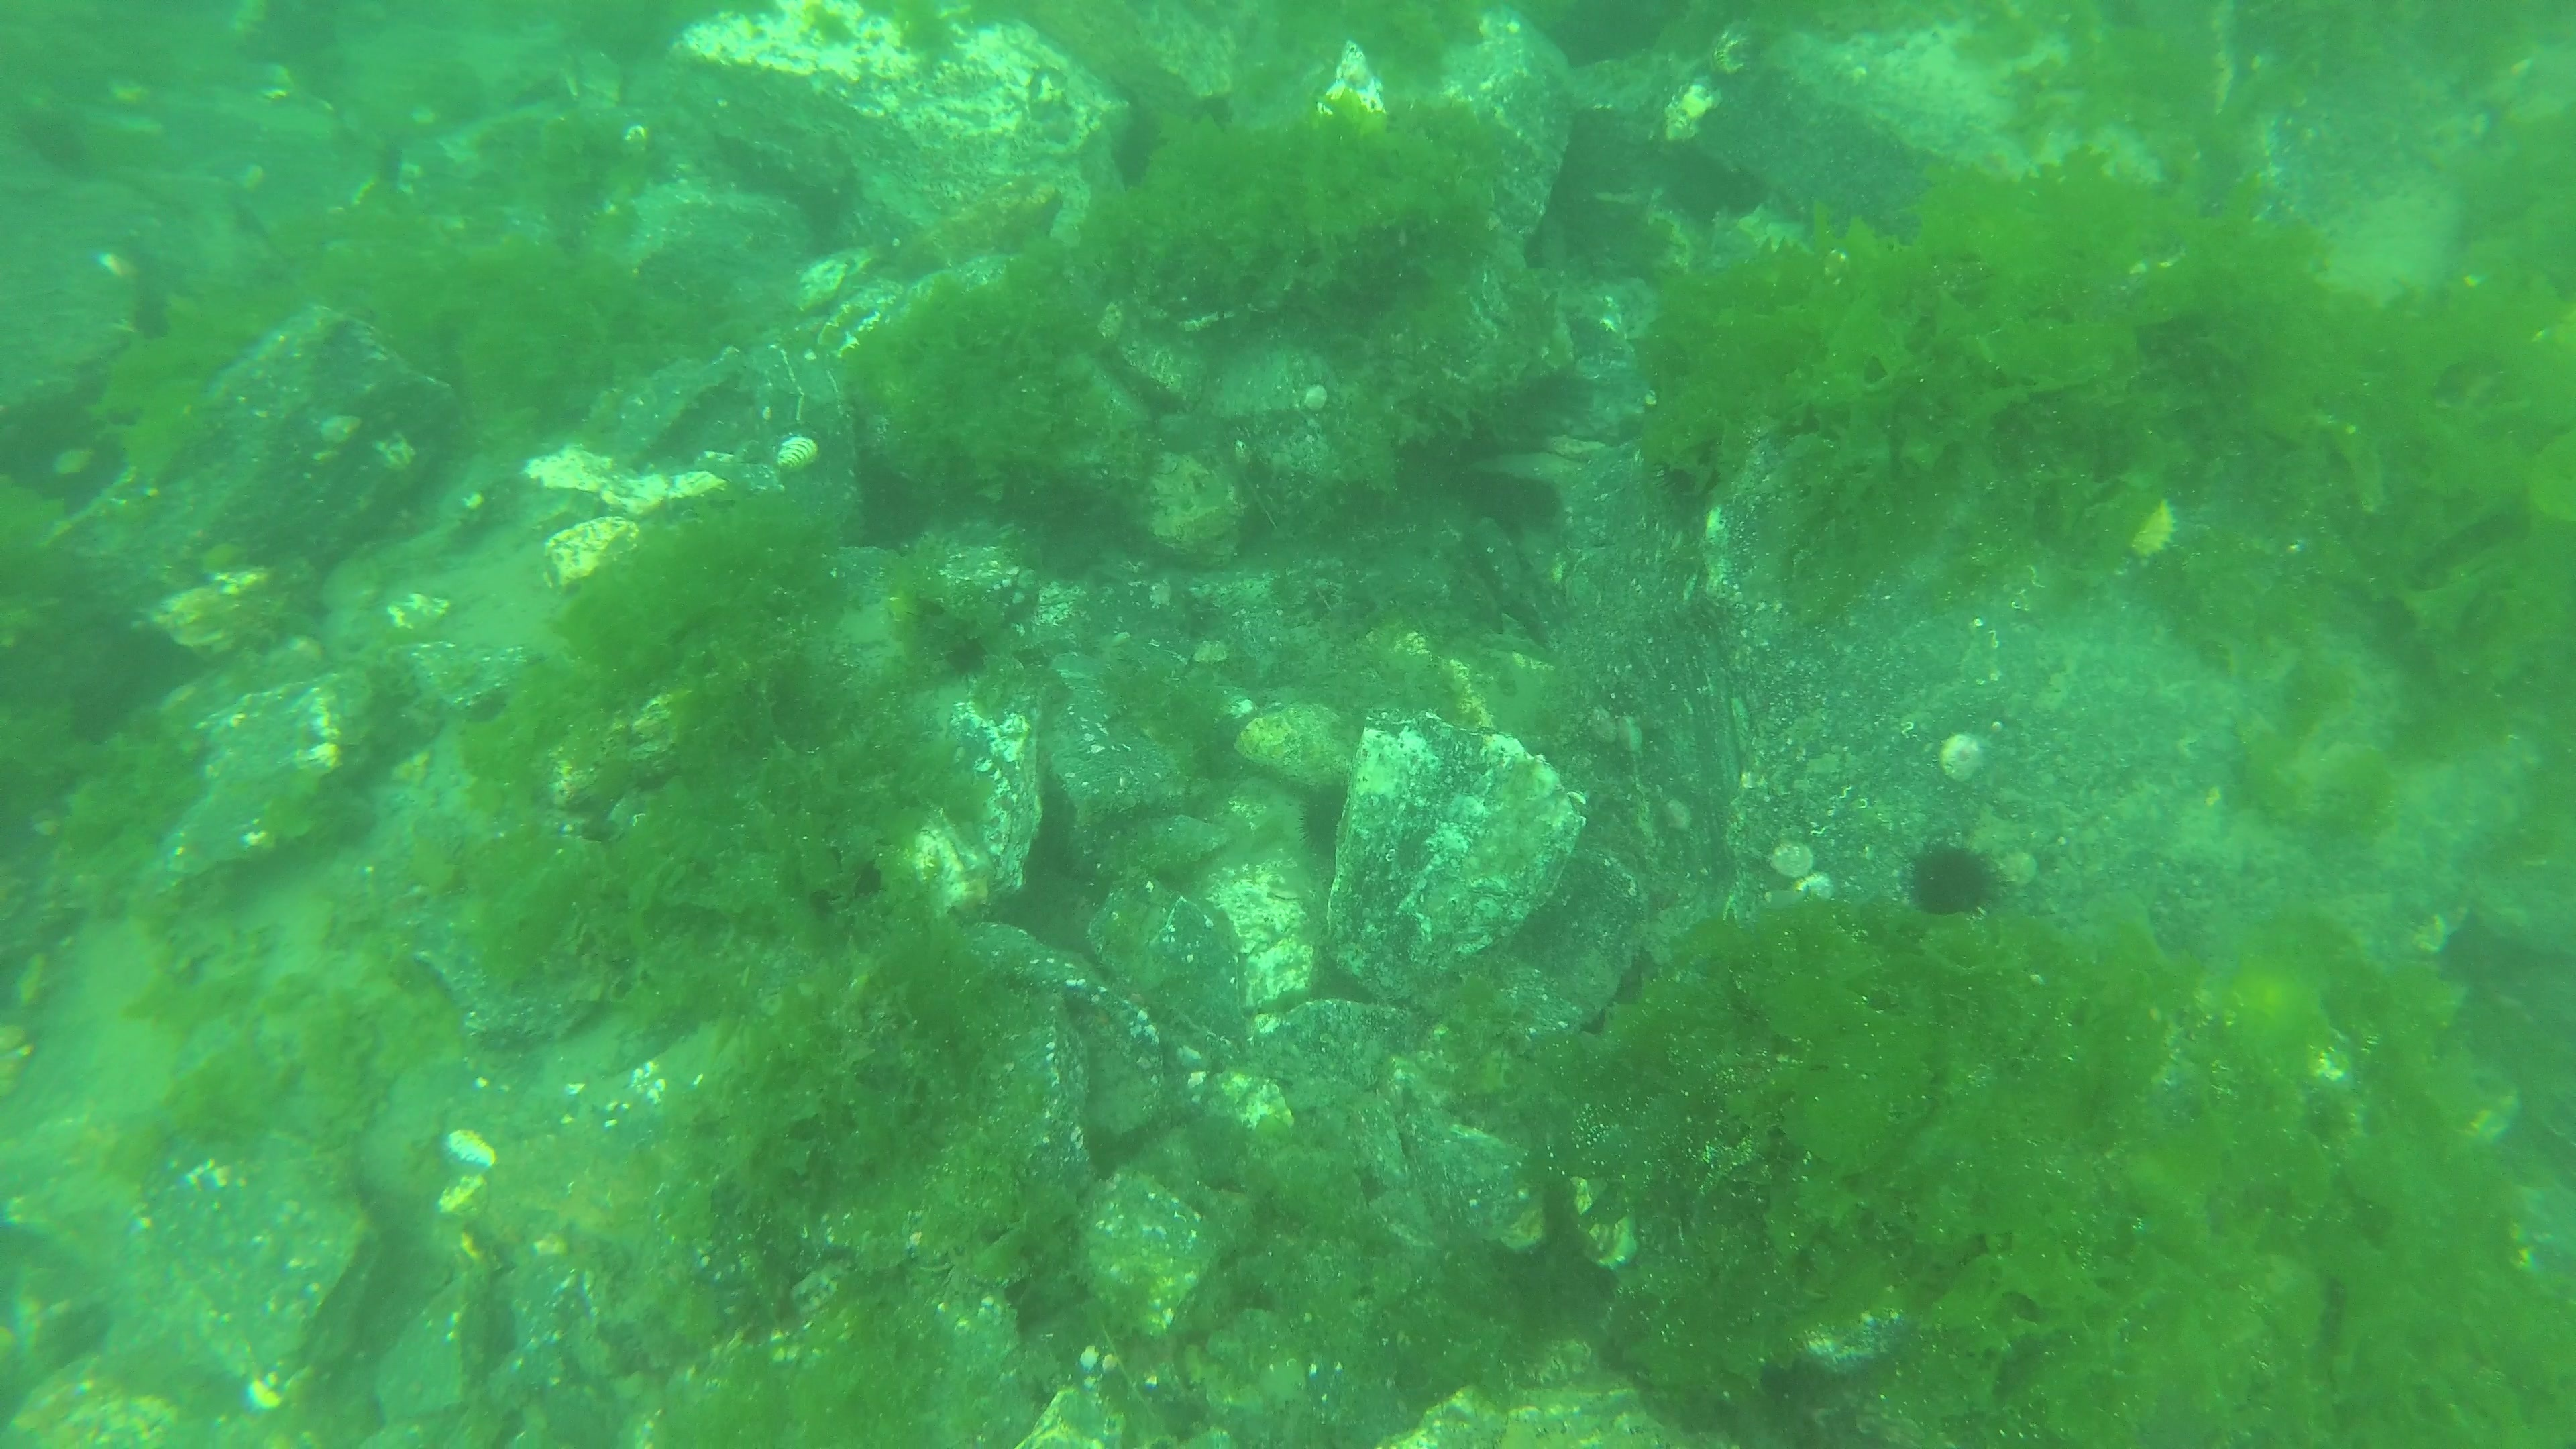echinus: (1907, 842, 2001, 922)
